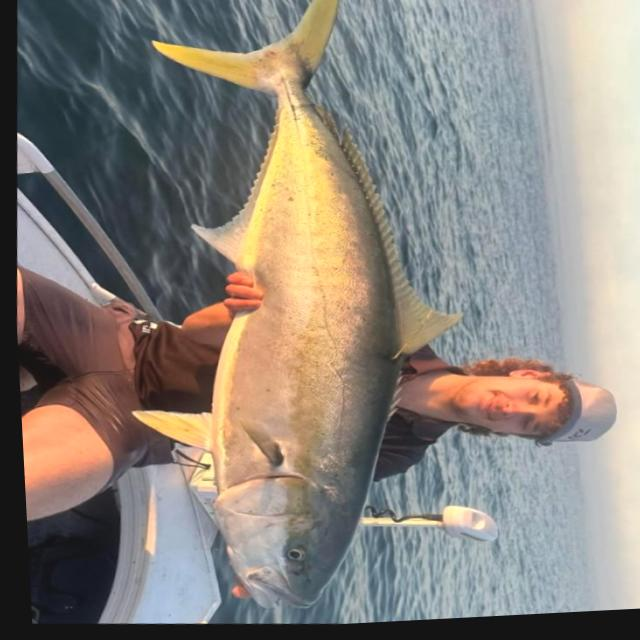Kingfish: (99, 0, 492, 631)
